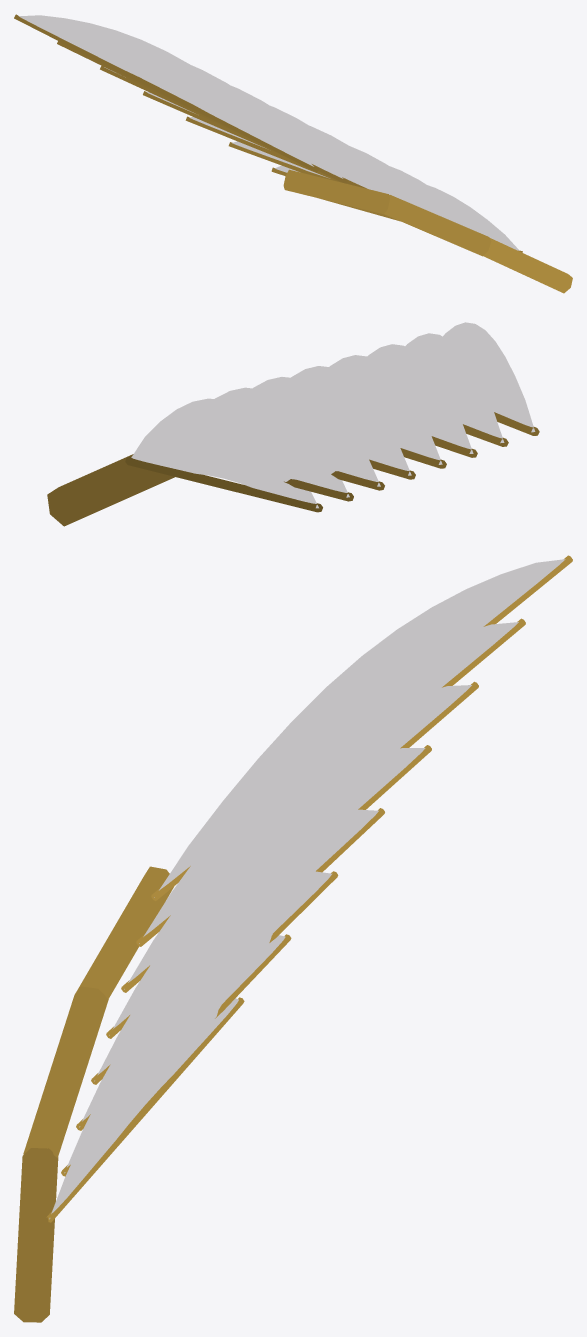
The model's file is crown_inheritance_wing_left.obj.
3 views of the same model, one above another, from view 1: azimuth 30°, elevation 25°; view 2: azimuth 150°, elevation 25°; view 3: azimuth 270°, elevation 25° (orthographic). The views are drawn at different scales.
Parts seen in each view (by area): view 1: Wingleft; view 2: Wingleft; view 3: Wingleft.
Part boxes in pixels (x1=…): Wingleft: x1=14, y1=14, x2=572, y2=293; Wingleft: x1=47, y1=322, x2=539, y2=526; Wingleft: x1=14, y1=555, x2=572, y2=1322.
Size of the model in its own units: 1.85 by 1.15 by 1.31.
